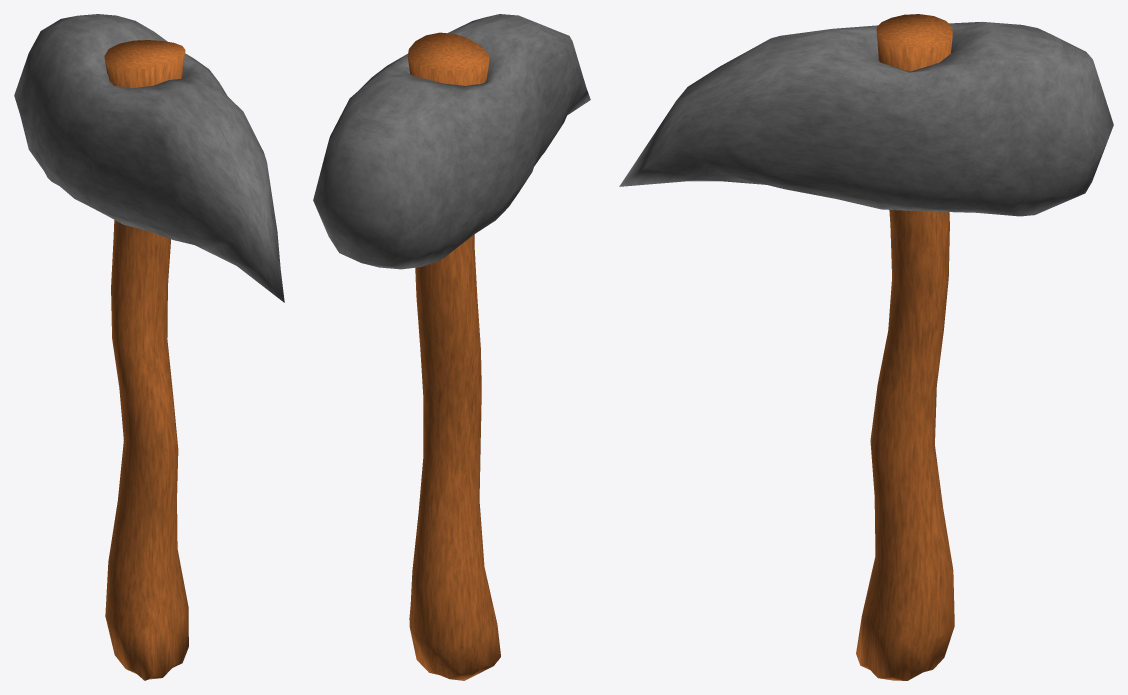
Rendered from MakeshiftPickaxe.fbx.
3 views of the same model, side by side, from view 1: azimuth 30°, elevation 25°; view 2: azimuth 150°, elevation 25°; view 3: azimuth 270°, elevation 25° (orthographic). The views are drawn at different scales.
Visible parts, largest first — view 1: PickaxeAssembled; view 2: PickaxeAssembled; view 3: PickaxeAssembled.
Part boxes in pixels (x1,y1,x2,y2): PickaxeAssembled: (14, 14, 284, 680); PickaxeAssembled: (313, 14, 590, 680); PickaxeAssembled: (619, 14, 1113, 680).
Bounding box in the file's own units: 37.37 × 151 × 103.
2 materials, 2 textured.
